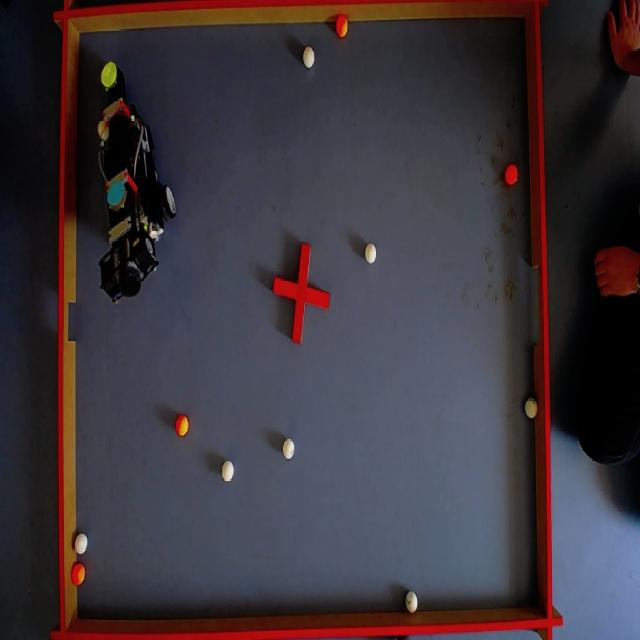orange: (506, 160, 518, 189), (178, 416, 191, 436), (72, 567, 85, 586), (336, 17, 348, 37)
robot: (89, 57, 180, 314)
robot-front: (98, 62, 118, 86)
robot-rear: (109, 177, 130, 208)
white: (404, 591, 419, 613), (523, 398, 537, 421), (304, 46, 316, 71), (76, 534, 89, 556), (222, 462, 235, 484), (365, 242, 378, 264), (284, 439, 297, 458)
